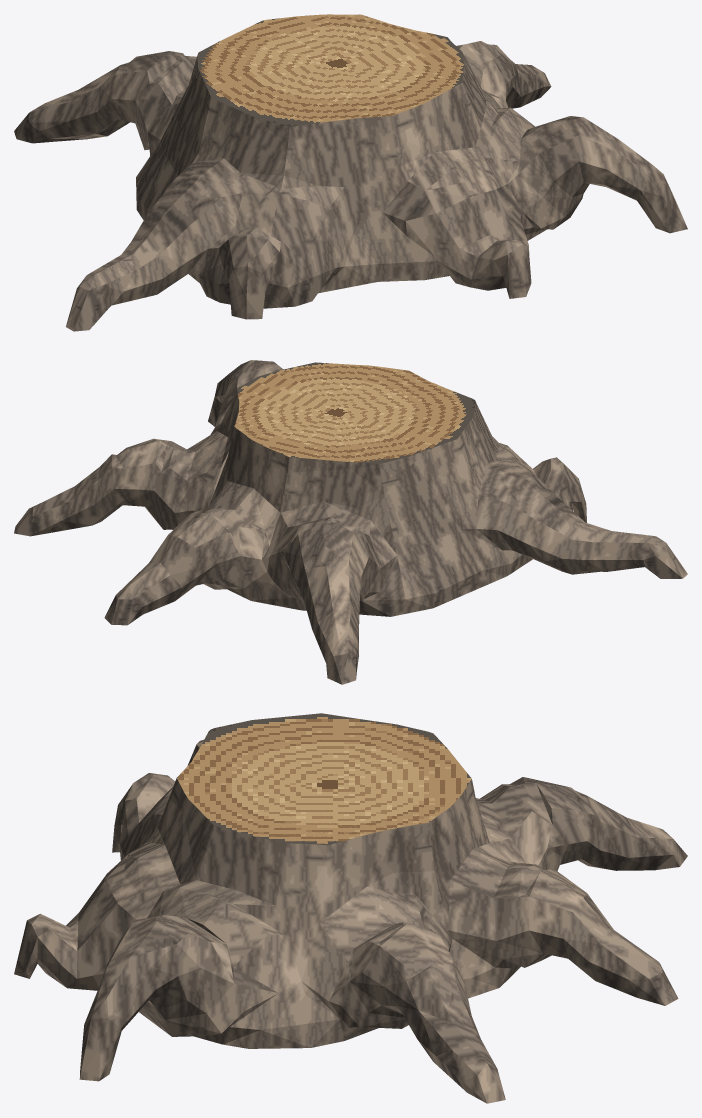
Rendered from environment_elm6_stump_v76.fbx.
3 views of the same model, one above another, from view 1: azimuth 30°, elevation 25°; view 2: azimuth 150°, elevation 25°; view 3: azimuth 270°, elevation 25° (orthographic). The views are drawn at different scales.
Visible parts, largest first — view 1: environment_elm6_stump_v76; view 2: environment_elm6_stump_v76; view 3: environment_elm6_stump_v76.
Boxes of the visible parts, <box> form: environment_elm6_stump_v76: <box>14,14,687,331</box>; environment_elm6_stump_v76: <box>14,360,687,684</box>; environment_elm6_stump_v76: <box>14,713,687,1103</box>.
Size of the model in its own units: 512 by 115 by 433.
Materials: 2 (2 with a texture image).
